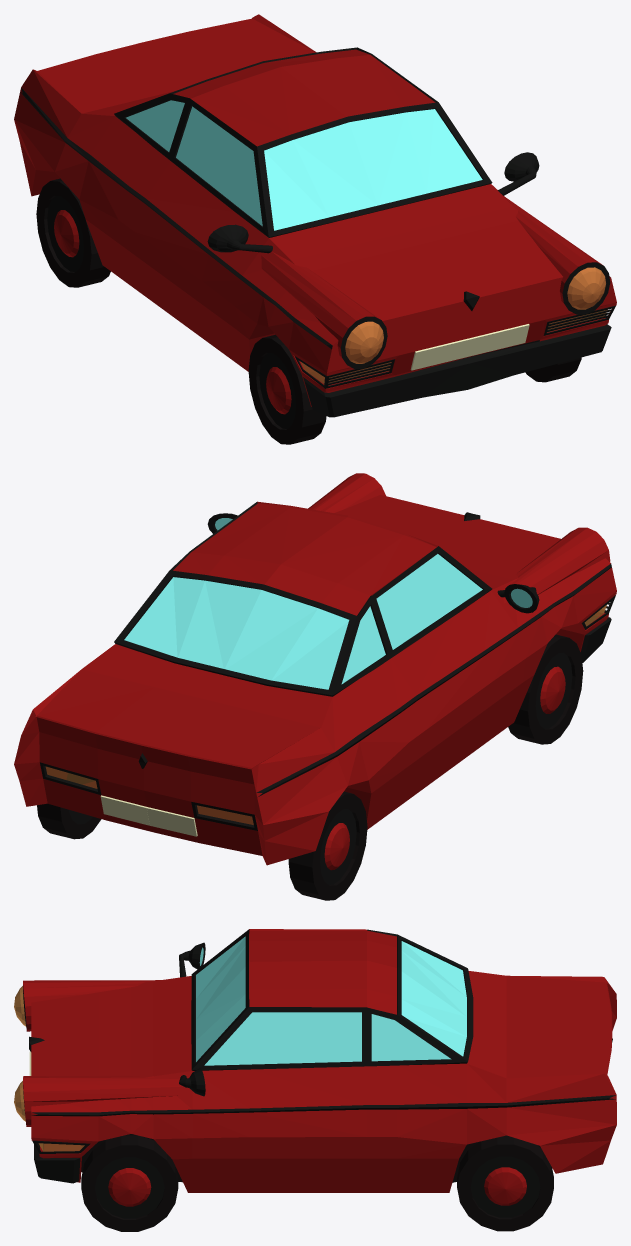
Rendered from Tentacle_Voiture_001.FBX.
3 views of the same model, one above another, from view 1: azimuth 30°, elevation 25°; view 2: azimuth 150°, elevation 25°; view 3: azimuth 270°, elevation 25° (orthographic). The views are drawn at different scales.
Visible parts, largest first — view 1: Plane003; view 2: Plane003; view 3: Plane003.
Part boxes in pixels (left/top/right/bottom): Plane003: left=14, top=14, right=616, bottom=444; Plane003: left=14, top=473, right=616, bottom=900; Plane003: left=14, top=929, right=616, bottom=1231.
Bounding box in the file's own units: 207 × 144 × 373.
